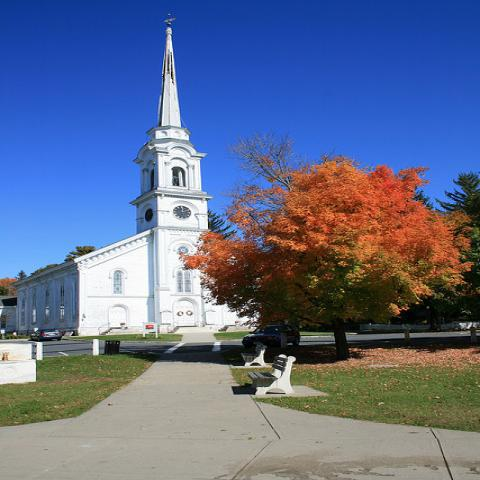car: (242, 323, 301, 347), (30, 329, 62, 341)
